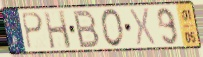9: (156, 7, 180, 47)
B: (72, 9, 101, 50)
H: (42, 9, 74, 50)
O: (99, 8, 125, 49)
P: (20, 11, 45, 51)
X: (129, 6, 157, 47)
